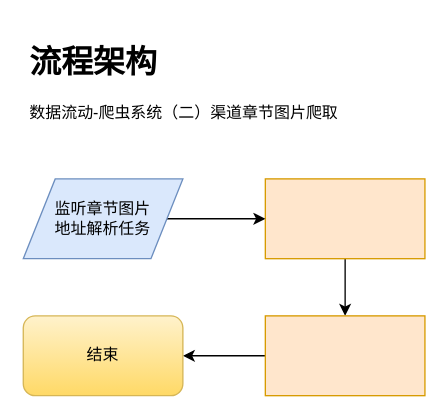
This 448x419 diagram has some shape labels left out. The shapes that lost their labels are listed below. From the top down, each one's centre as x and y in pixels, then its label:
the point at 344,218: 依据渠道 章节完成爬取
the point at 344,355: 指定消息结构 组装爬取数据 并推送结果
